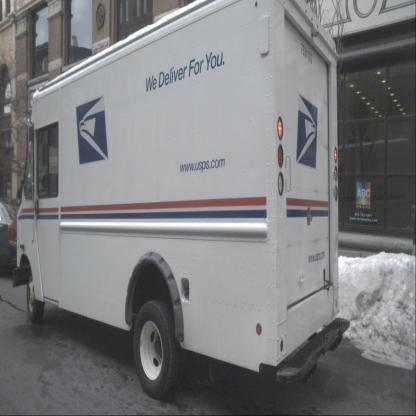vehicle-truck: (12, 0, 350, 400)
